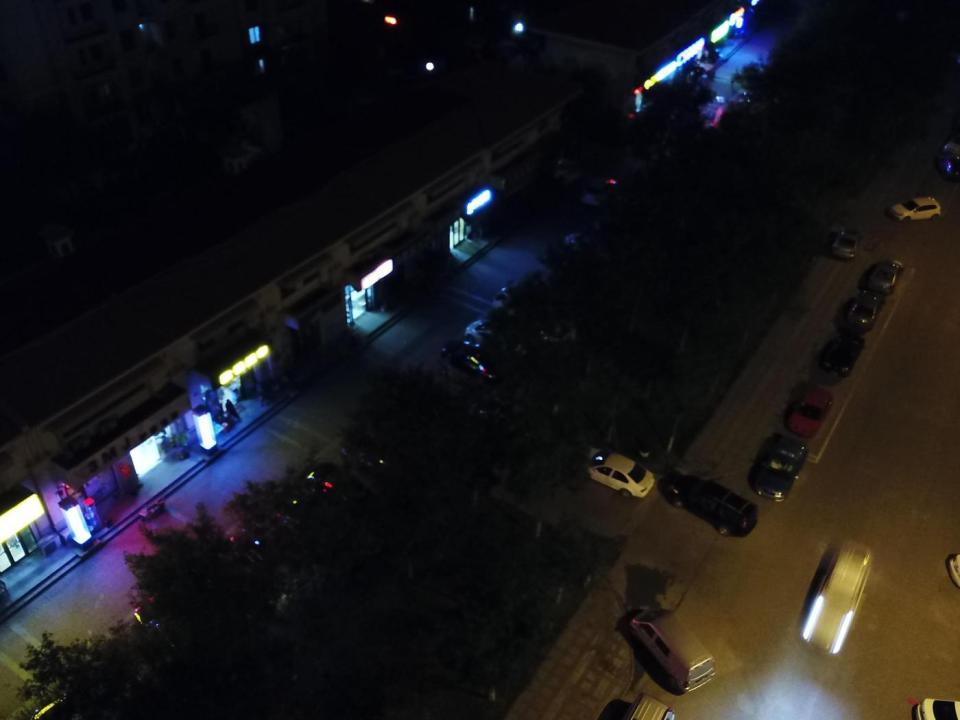car: (801, 536, 873, 659), (667, 476, 759, 537), (308, 459, 387, 516), (575, 445, 654, 501), (338, 438, 421, 488), (749, 435, 808, 502), (494, 280, 565, 332), (438, 338, 509, 383), (782, 383, 837, 437), (464, 320, 535, 360), (562, 229, 623, 269), (821, 332, 868, 374), (885, 193, 944, 223), (826, 220, 872, 257), (848, 290, 890, 330), (863, 259, 908, 296), (584, 174, 620, 208)
van: (629, 608, 716, 691)
